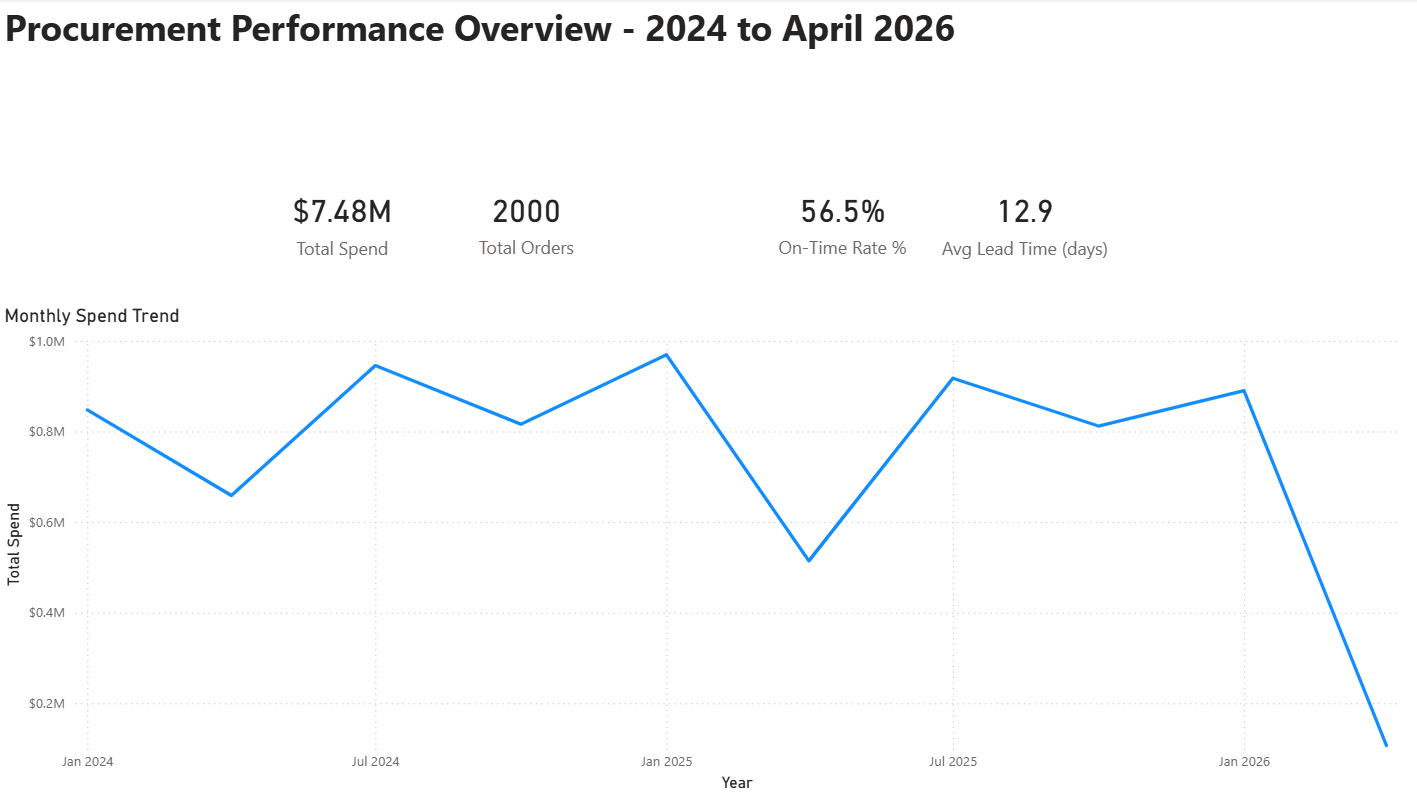

What the dashboard file says about the page in this screenshot:
{"tool":"powerbi","page":{"name":"Executive Summary","canvas":[1280,720],"ordinal":0},"visuals":[{"type":"card","fields":{"Values":["_Measures.Total Spend"]},"box":[225,126.2,168.8,149.6],"z":0},{"type":"textbox","box":[0,0,963.3,100.2],"z":1000},{"type":"card","fields":{"Values":["_Measures.Total Orders"]},"box":[393.8,124.9,164.7,150.9],"z":2000},{"type":"card","fields":{"Values":["_Measures.On-Time Rate %"]},"box":[679.2,124.9,161.9,150.9],"z":3000},{"type":"card","fields":{"Values":["_Measures.Avg Lead Time (days)"]},"box":[841.2,126.2,168.8,149.6],"z":4000},{"type":"lineChart","title":"Monthly Spend Trend","fields":{"Category":["dim_dates.date.Variation.Date Hierarchy.Year","dim_dates.date.Variation.Date Hierarchy.Quarter"],"Y":["_Measures.Total Spend"]},"box":[0,275.8,1280.3,444.6],"z":5000}]}

Visuals, with their boxes in screenshot pixels (x1, y1, x2, y2), scaled from the page's 1280x720 canvas onto the 1417x796 screenshot:
card - _Measures.Total Spend: [249,140,436,305]
textbox: [0,0,1066,111]
card - _Measures.Total Orders: [436,138,618,305]
card - _Measures.On-Time Rate %: [752,138,931,305]
card - _Measures.Avg Lead Time (days): [931,140,1118,305]
"Monthly Spend Trend" lineChart: [0,305,1416,795]
